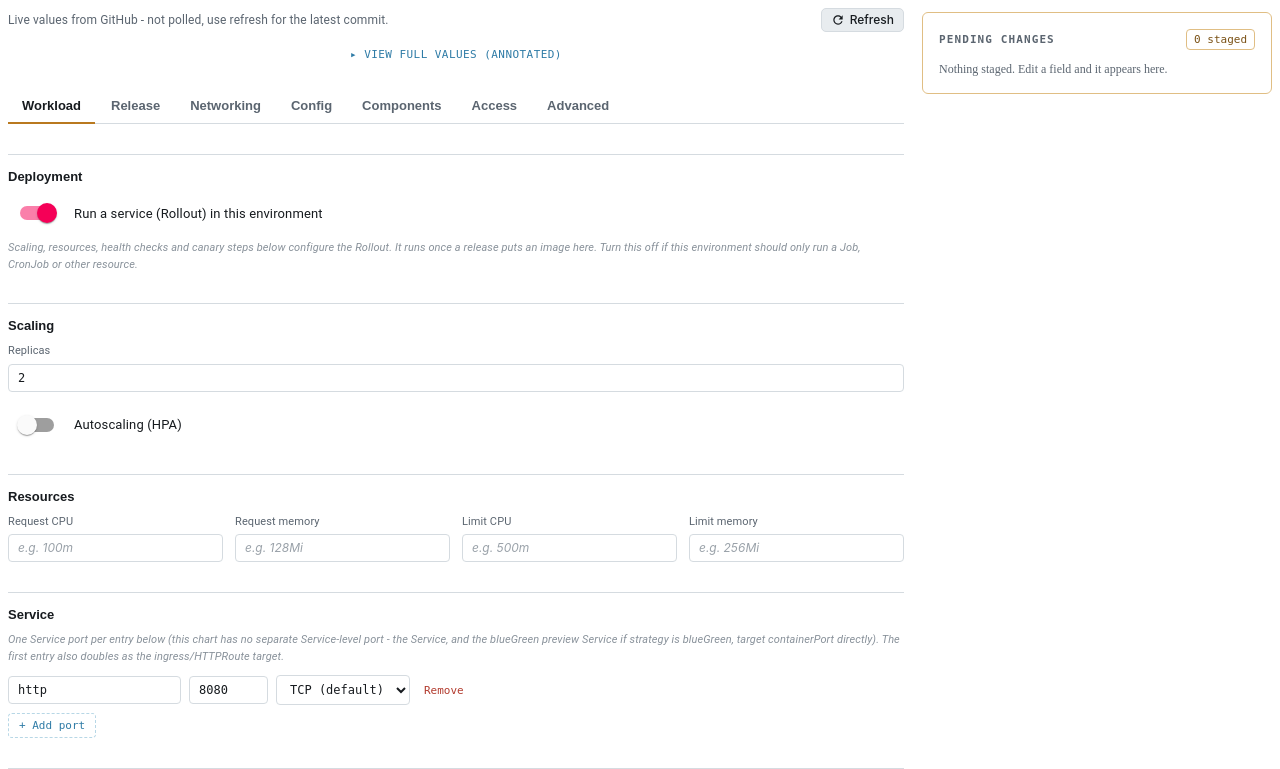
Test: adding a component › points the env vars at a component's new name once the rename is finished
The width and height of the screenshot is (1280, 769).
Step 1. Click the tab "Components" → click(402, 107), box [348,89,456,124]
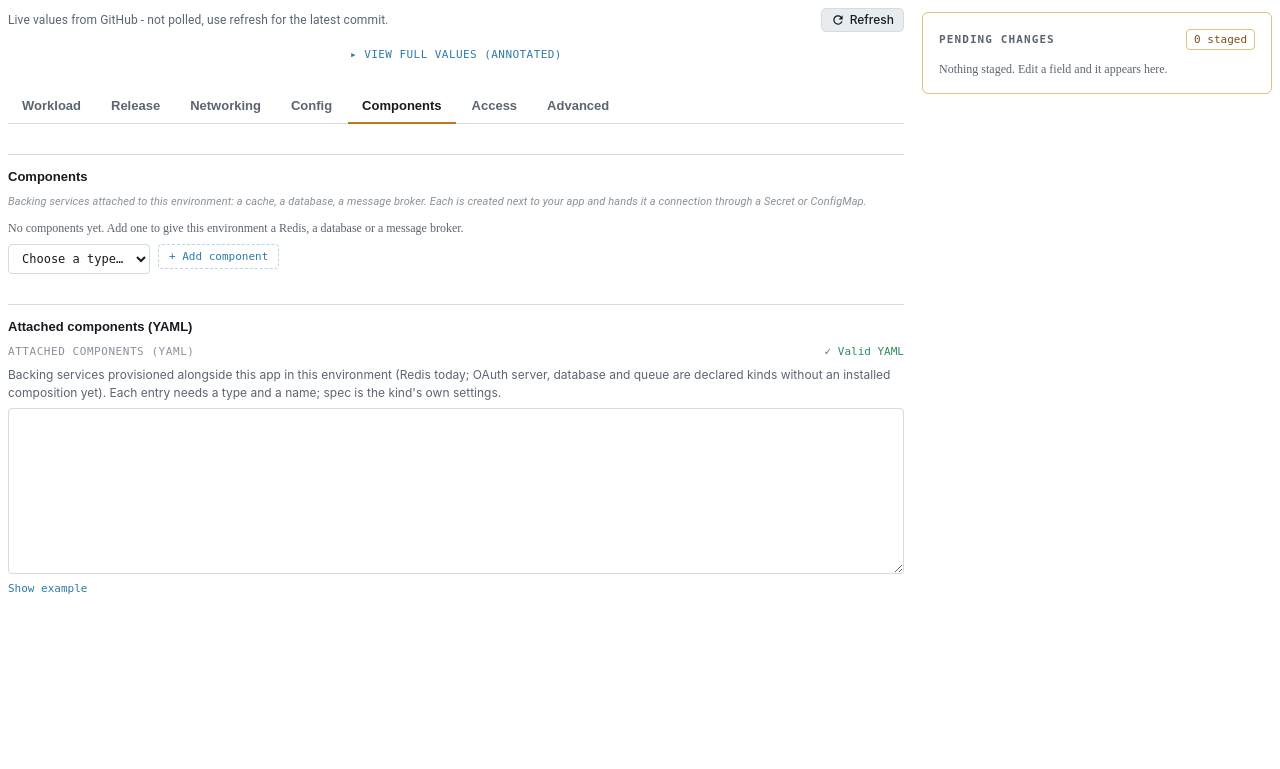
Step 2. Select "Redis" in the dropdown named "Component type to add" → (79, 259), box [8,244,150,274]
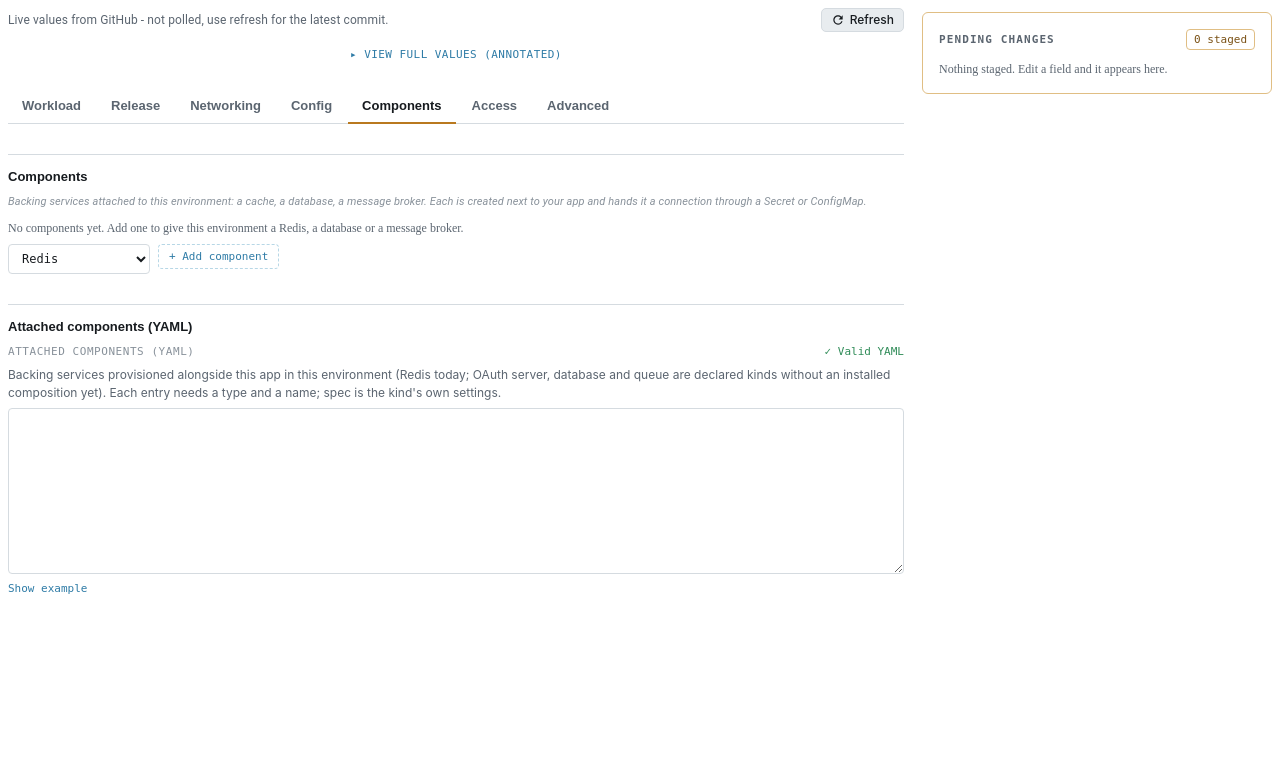
Step 3. Click the button "+ Add component" → click(219, 256), box [158,244,279,269]
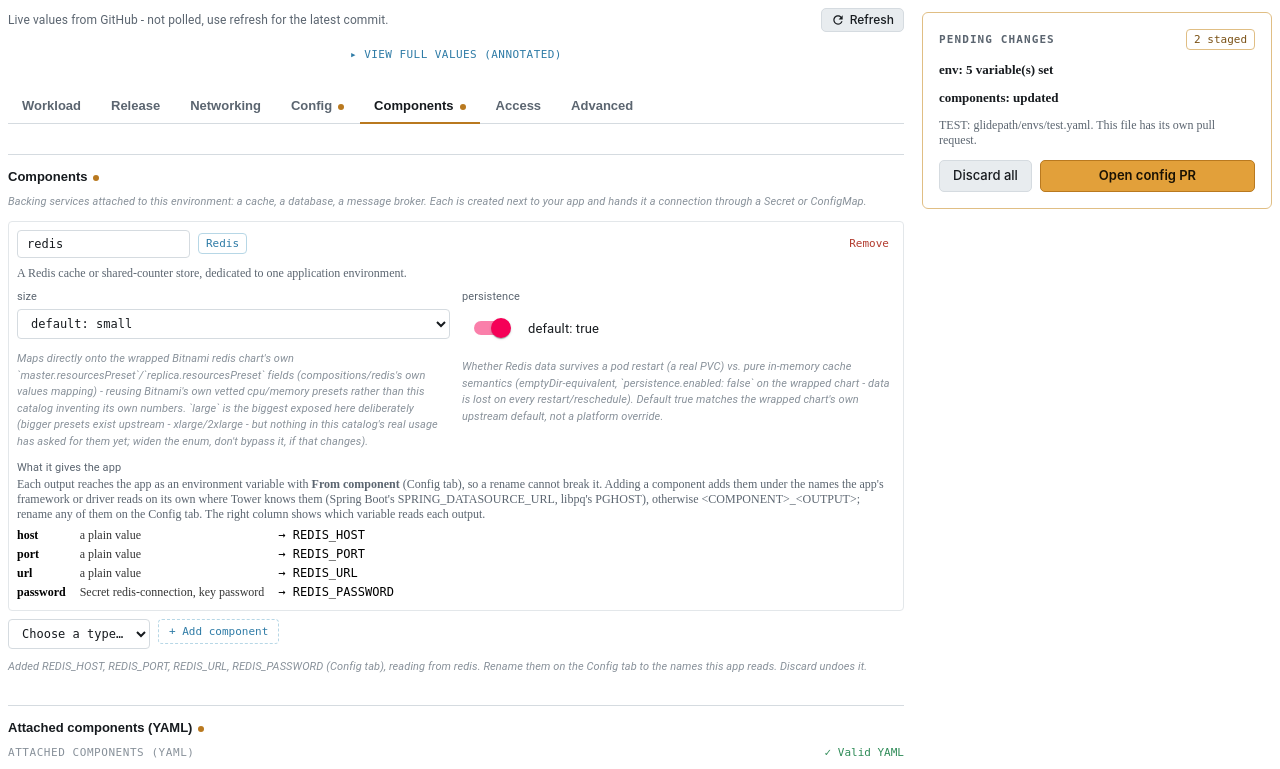
Step 4. Replace the text in the field named "Component 1 name" with "cache" → (104, 244), box [17,230,190,258]
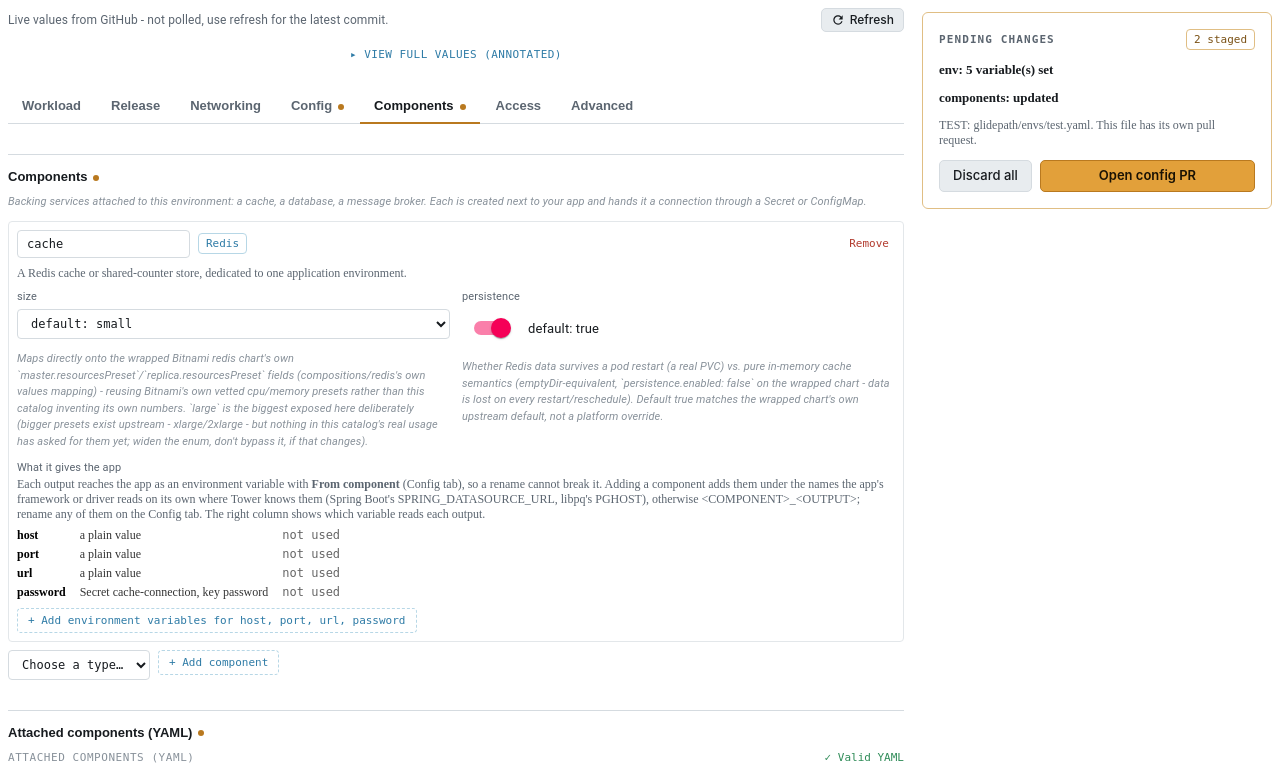
Step 5. Leave the field named "Component 1 name", box [17,230,190,258]
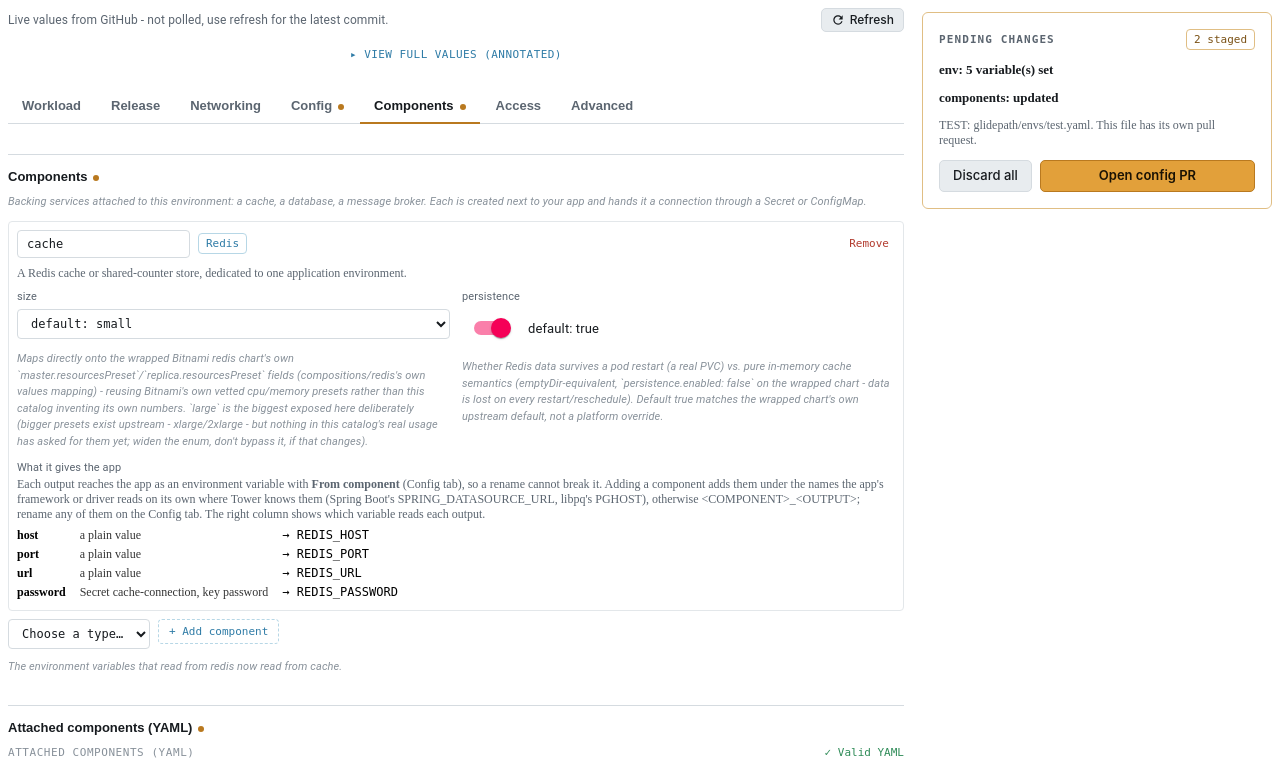
Expected: the message reads "The environment variables that read from redis now read from cache.", [8,660,342,673]
Expected: the cell named "Env vars reading url" reads "→ REDIS_URL", [282,566,362,580]
